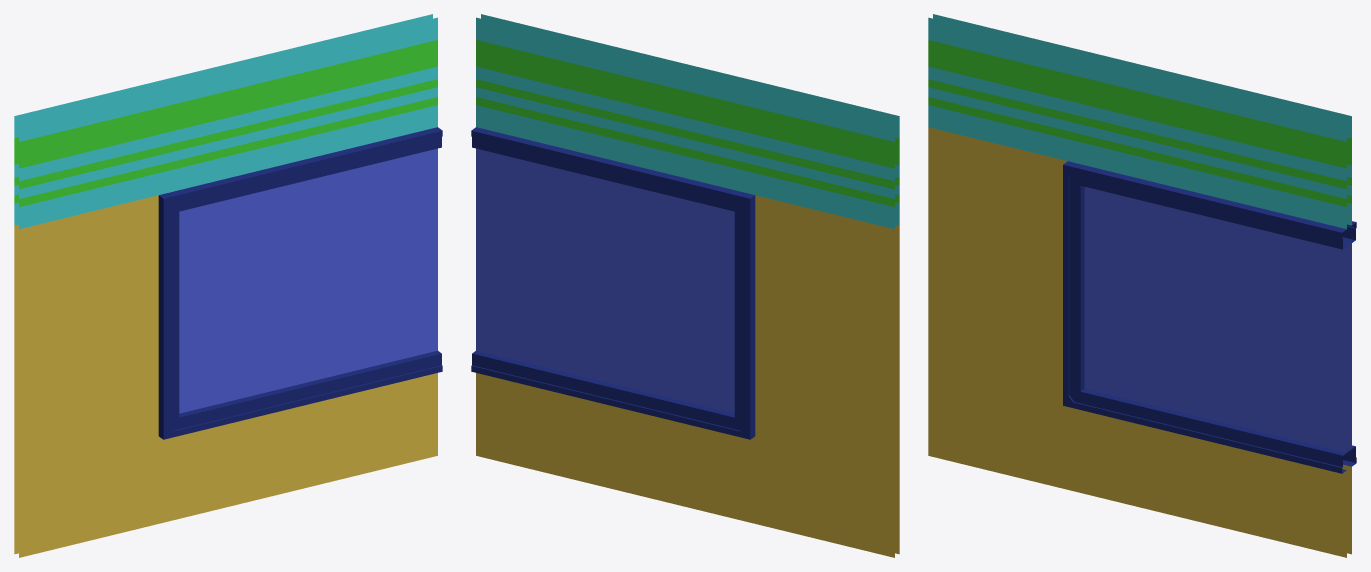
Rendered from Wall_38_Window_Side.fbx.
The picture shows the model from 3 angles, left to right: view 1: azimuth 30°, elevation 25°; view 2: azimuth 150°, elevation 25°; view 3: azimuth 330°, elevation 25°; orthographic projection.
Visible parts, largest first — view 1: Wall_38_Window_Side; view 2: Wall_38_Window_Side; view 3: Wall_38_Window_Side.
Part boxes in pixels (x1,y1,x2,y2): Wall_38_Window_Side: [14, 14, 442, 557]; Wall_38_Window_Side: [471, 14, 899, 557]; Wall_38_Window_Side: [928, 14, 1356, 557].
Size of the model in its own units: 457 by 457 by 27.43.
